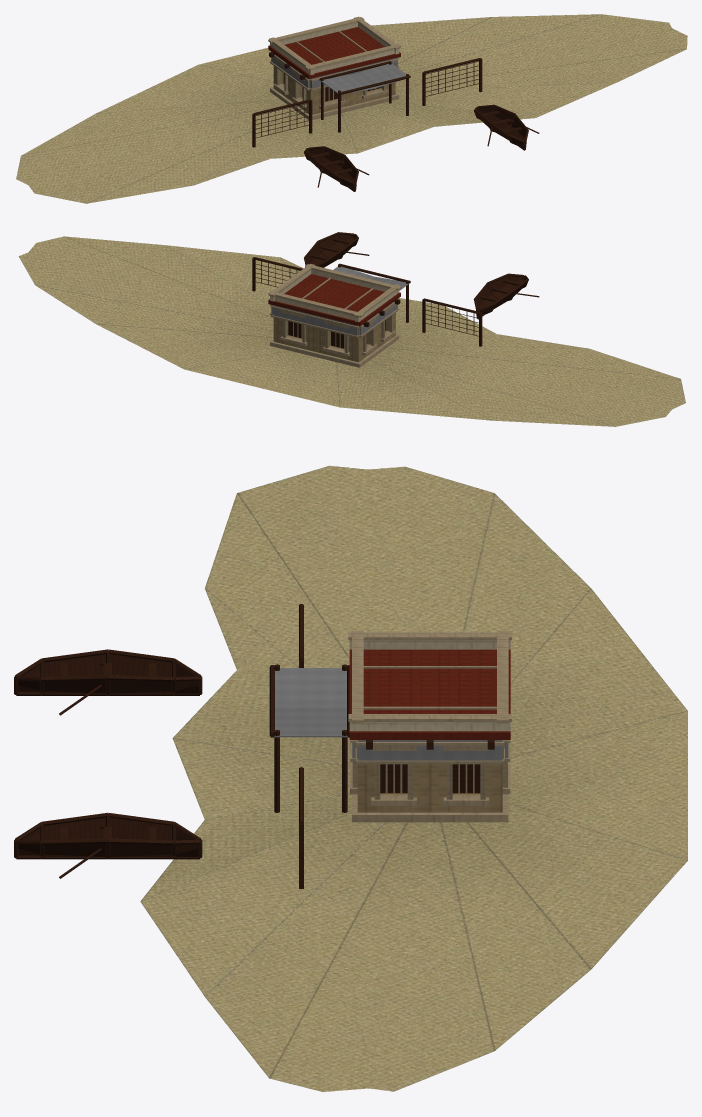
File: fishing_boats-bronze.glb
The picture shows the model from 3 angles, top to bottom: view 1: azimuth 30°, elevation 25°; view 2: azimuth 150°, elevation 25°; view 3: azimuth 270°, elevation 25°; orthographic projection. The views are drawn at different scales.
Visible parts, largest first — view 1: LOD0; view 2: LOD0; view 3: LOD0.
Part boxes in pixels (x1,y1,x2,y2): LOD0: (16,14,687,203); LOD0: (18,232,685,426); LOD0: (14,465,687,1091).
Size of what is drawn, in the model's own units: 4.76 by 0.3541 by 2.09.
3 materials, 3 textured.
